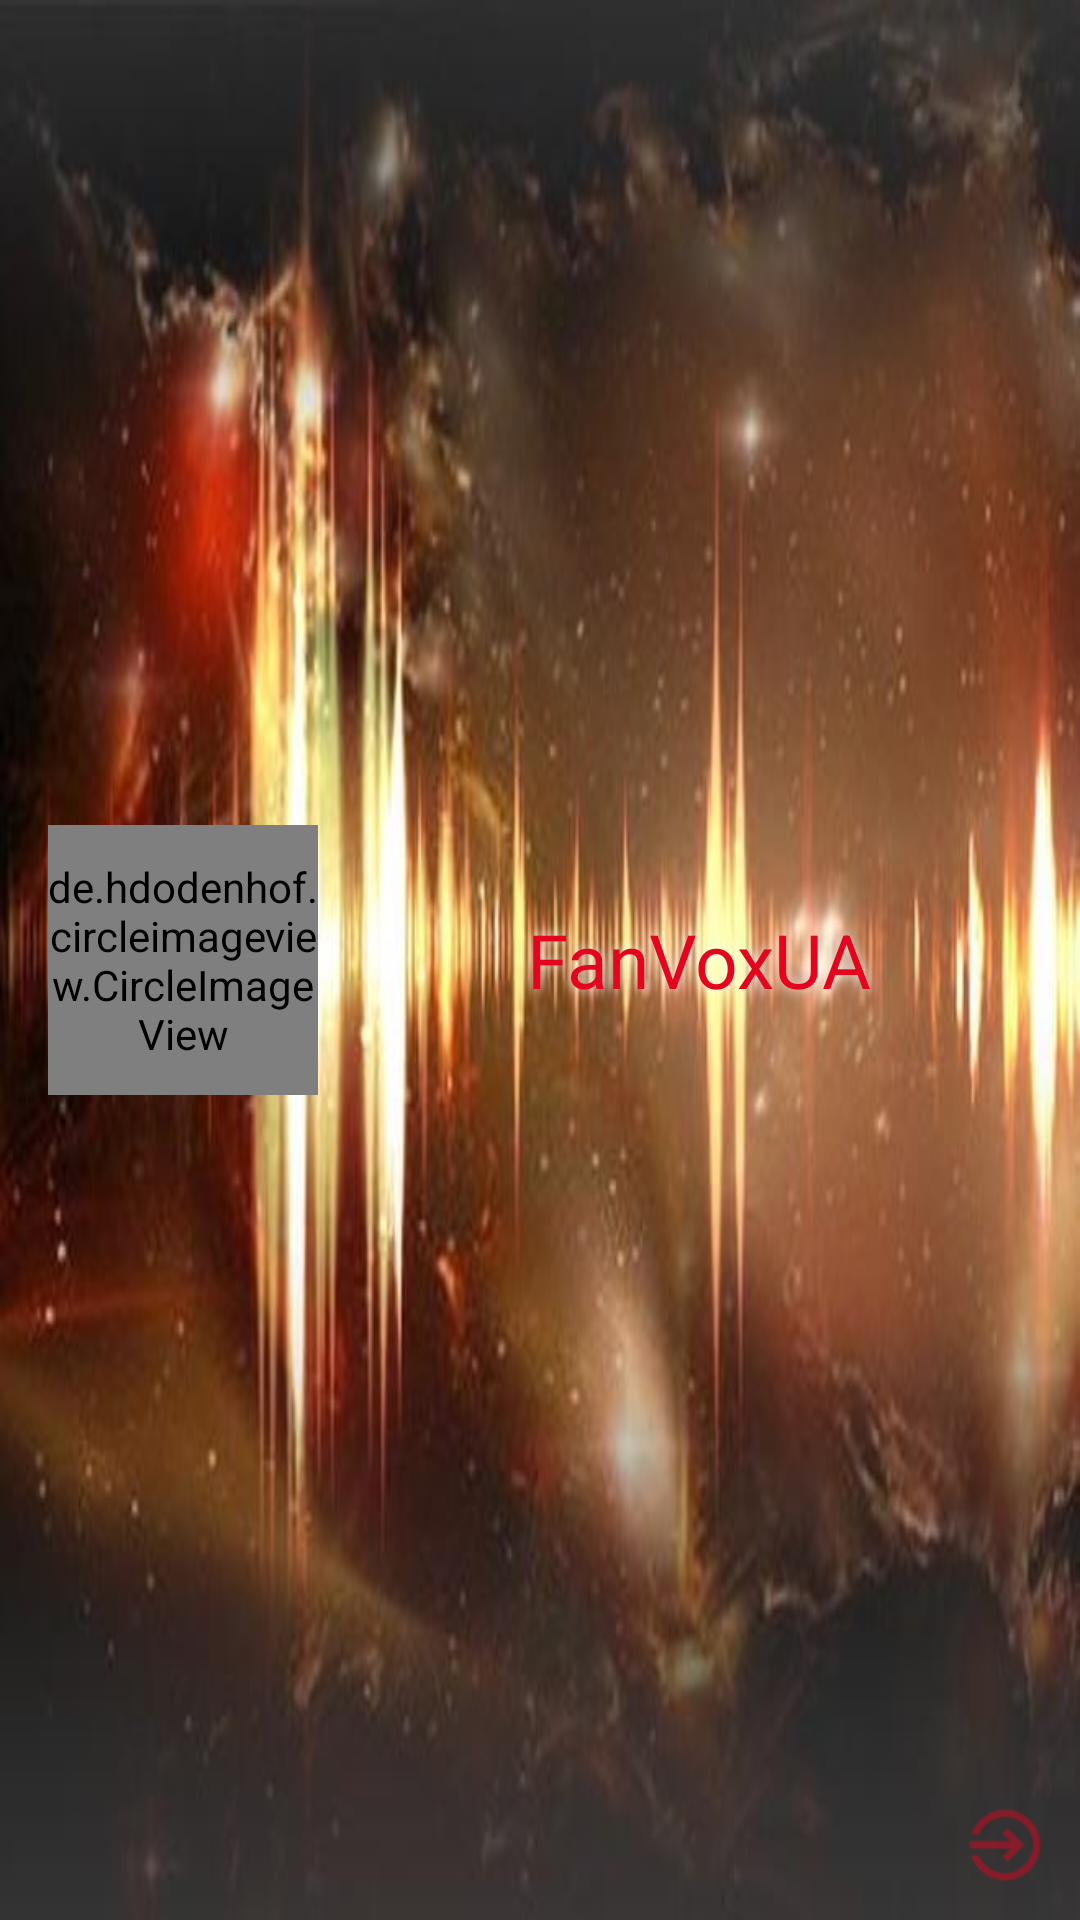

Screen size 1080px×1920px. Icon name, then its box in pixels as (x1, y1, x2, y2):
login: (969, 1809, 1041, 1881)
